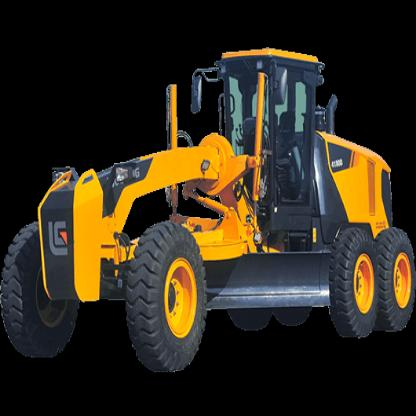bull_dozer/loader/grader: (0, 44, 415, 374)
